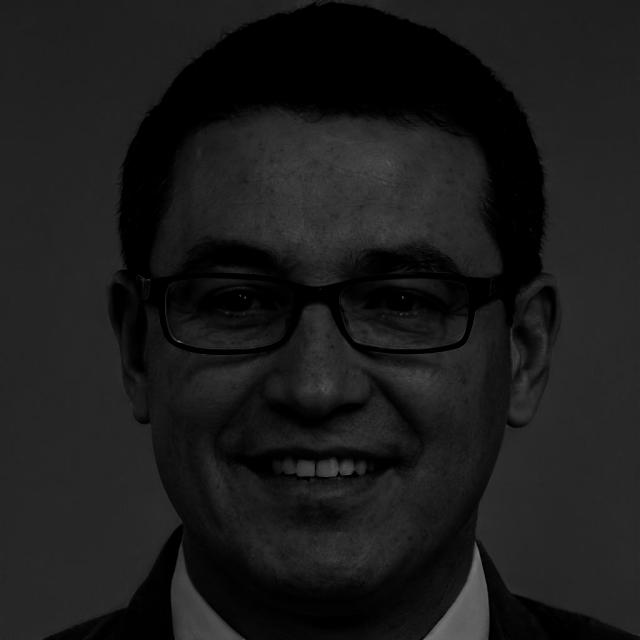lens: (339, 278, 470, 351), (168, 278, 295, 352)
